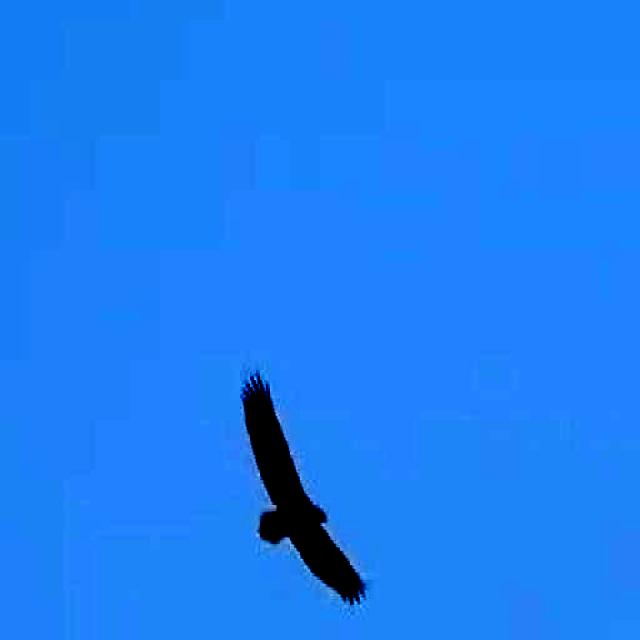airplane: (236, 352, 376, 640)
